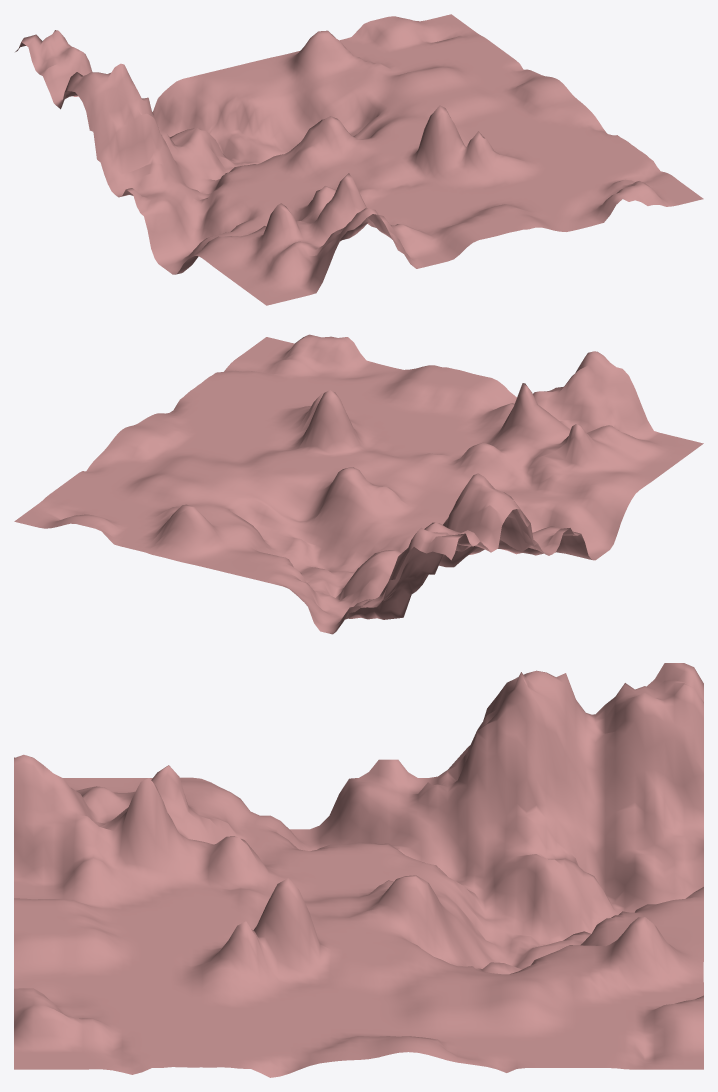
Rendered from terrain_test_01.fbx.
3 renders of one model, top to bottom at view 1: azimuth 30°, elevation 25°; view 2: azimuth 150°, elevation 25°; view 3: azimuth 270°, elevation 25°, orthographic. The views are drawn at different scales.
Parts seen in each view (by area): view 1: pPlane1; view 2: pPlane1; view 3: pPlane1.
Part boxes in pixels (x1=…): pPlane1: x1=15, y1=14, x2=703, y2=305; pPlane1: x1=14, y1=334, x2=703, y2=634; pPlane1: x1=14, y1=663, x2=703, y2=1077.
Bounding box in the file's own units: 5339 × 1675 × 5339.
